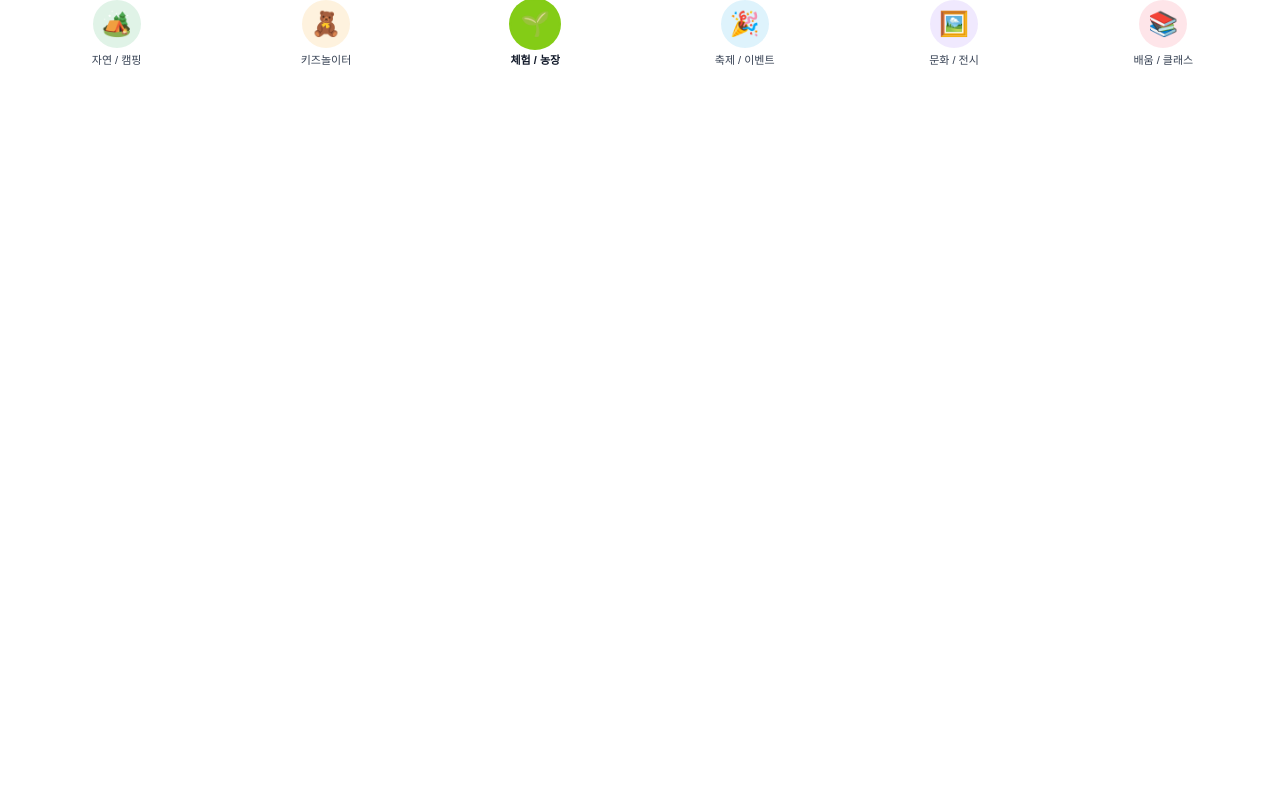
Test case: MajorCategoryGrid › ✕ 버튼을 누르면 시트가 닫힌다
Click the button "🌱 체험 / 농장".
click(535, 34)  # box x1=435 y1=0 x2=636 y2=68
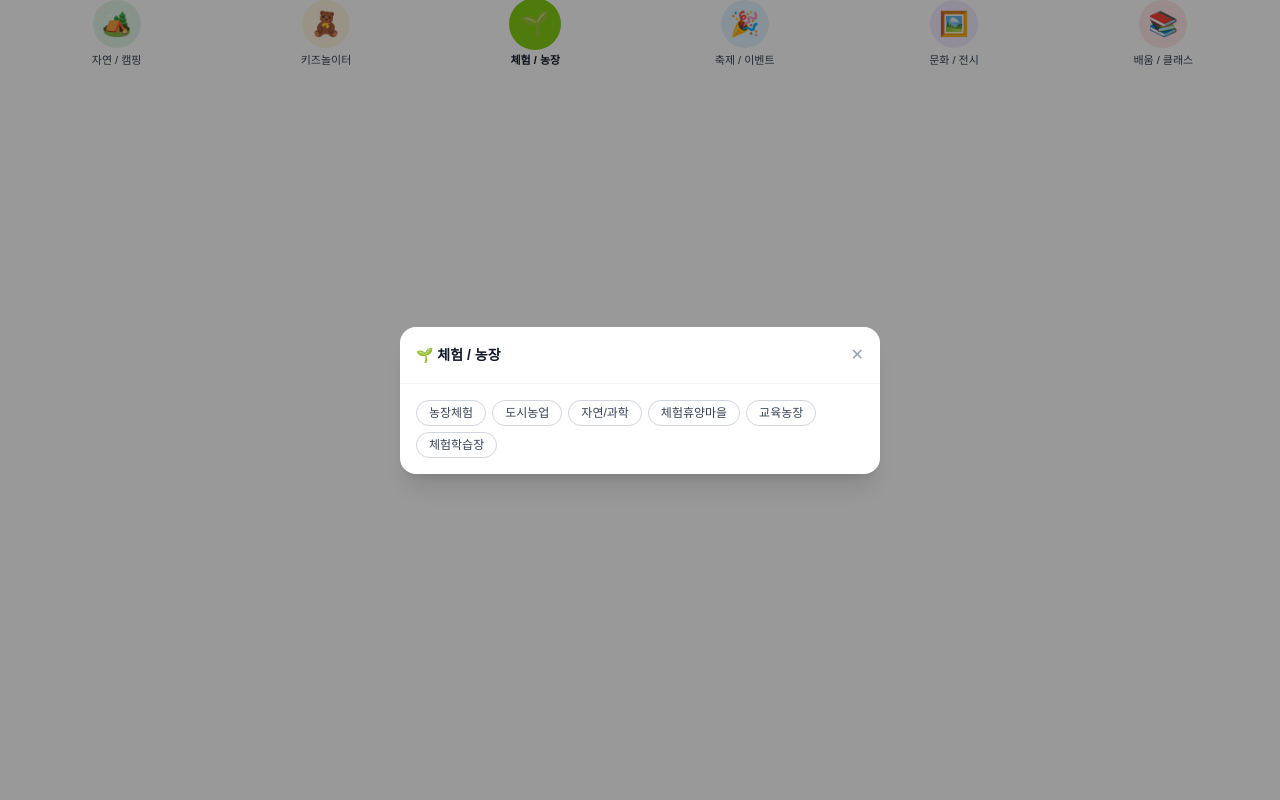
Result: the button "도시농업" is shown at x1=492 y1=400 x2=562 y2=426
Click the button named "닫기".
click(857, 354)  # box x1=851 y1=342 x2=864 y2=366
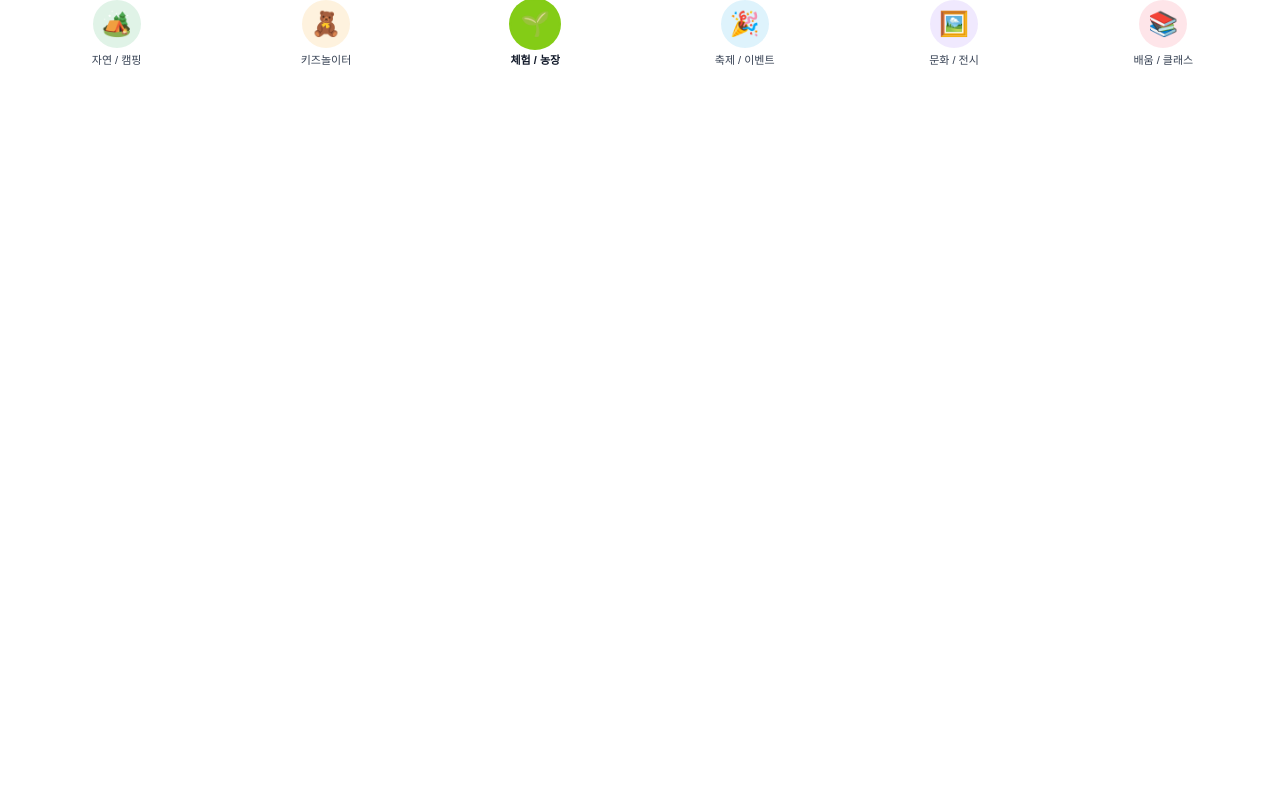
Result: the button "도시농업" is gone
